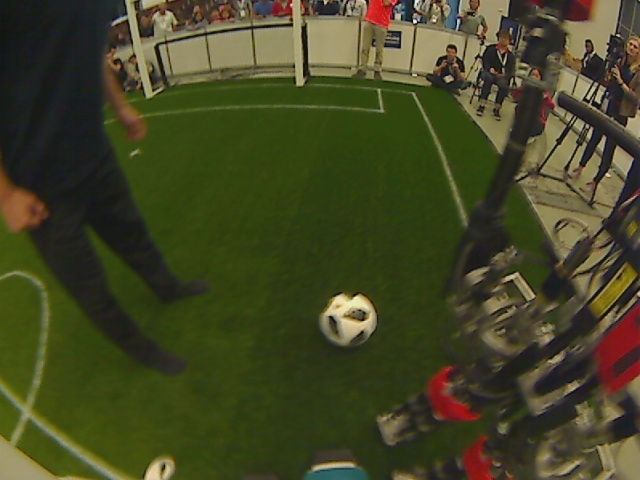ball: (319, 291, 379, 351)
